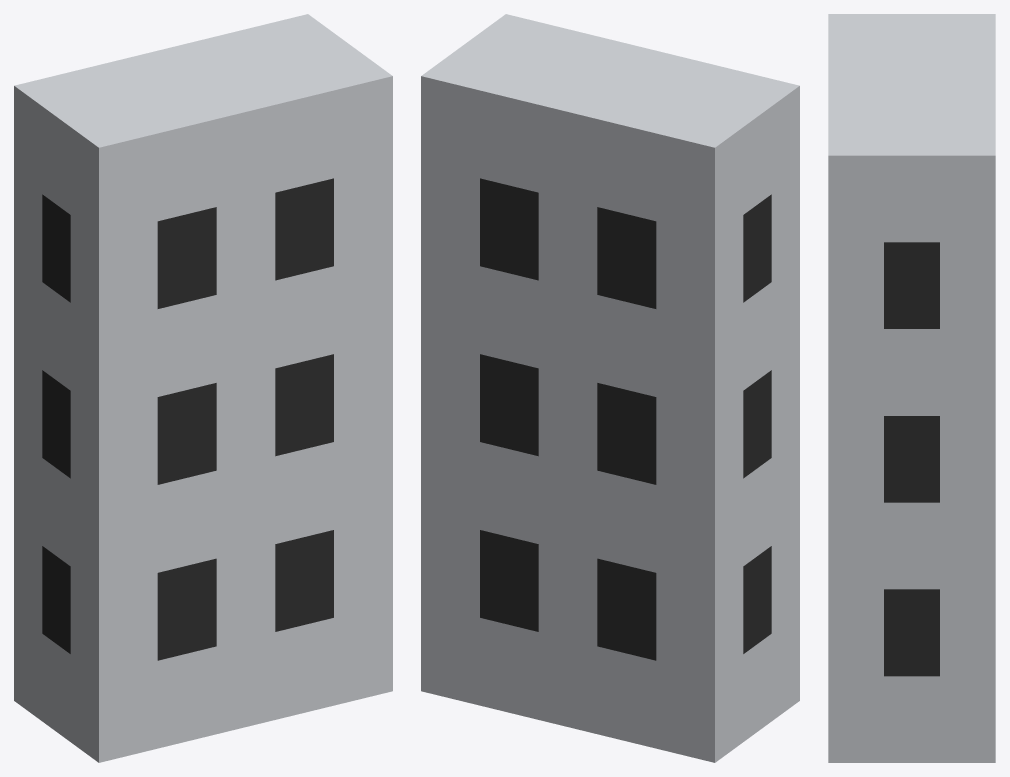
Rendered from Building.fbx.
3 renders of one model, left to right at view 1: azimuth 30°, elevation 25°; view 2: azimuth 150°, elevation 25°; view 3: azimuth 270°, elevation 25°, orthographic.
Parts seen in each view (by area): view 1: Building; view 2: Building; view 3: Building.
Boxes of the visible parts, x1=… form: Building: x1=14, y1=14, x2=392, y2=762; Building: x1=421, y1=14, x2=799, y2=762; Building: x1=828, y1=14, x2=995, y2=762.
Size of the model in its own units: 200 by 400 by 100.
